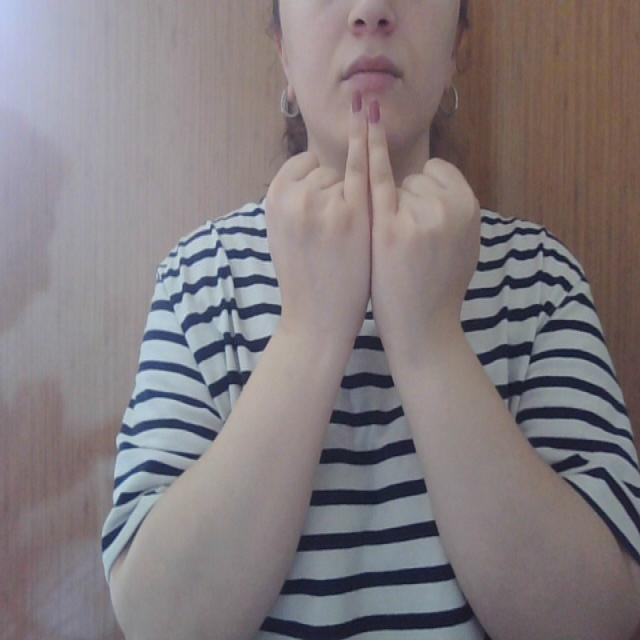Kardes: (262, 81, 485, 367)
